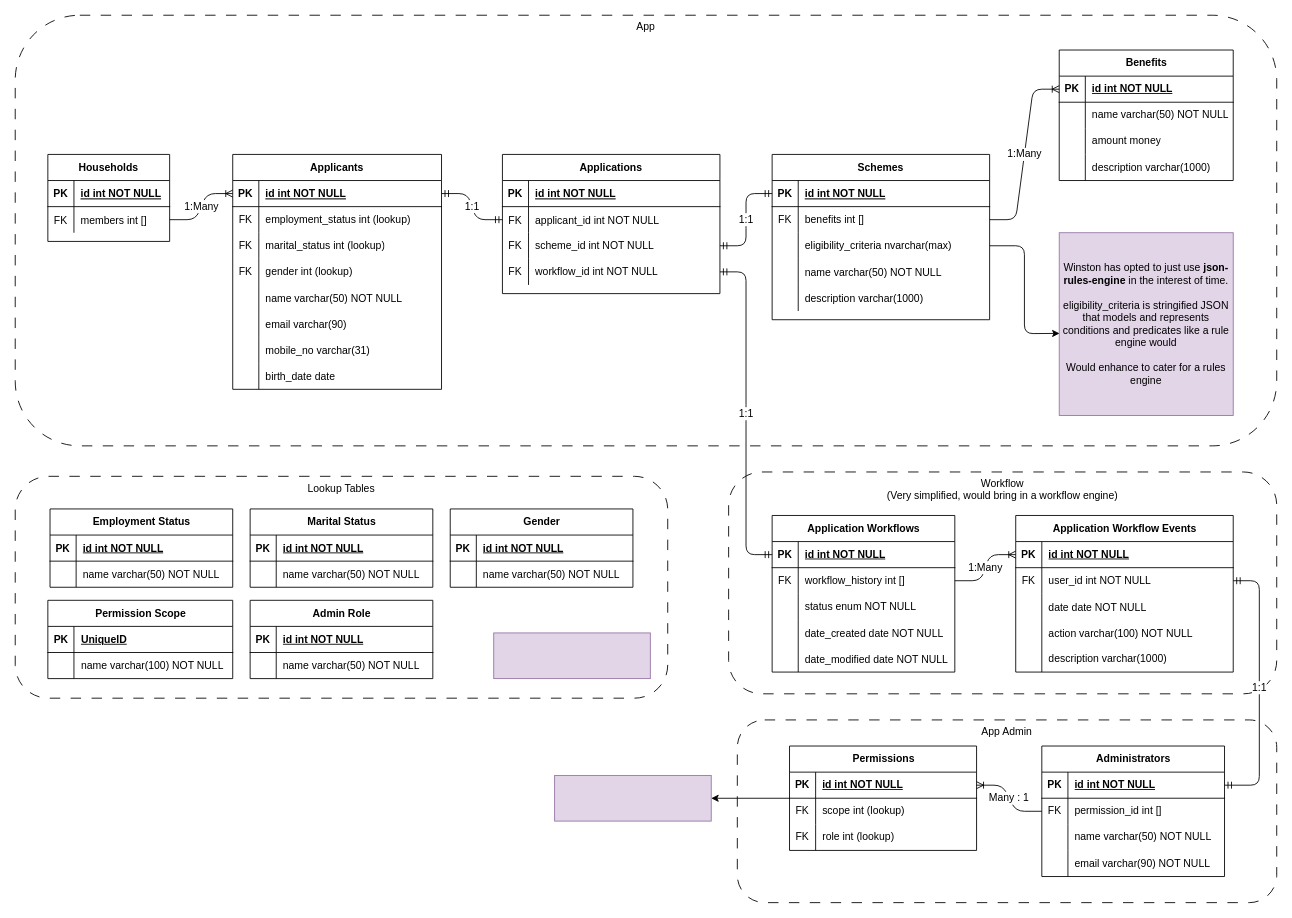
Image size: 1292x918. Some labels were removed from this diagram. Here are the shapes that lost their labels. From the top down, the centre of each, then its label:
pixel 571 655: Note: Lookups are 1:1 to respective main table
pixel 632 798: Permissions dictate app authorization
